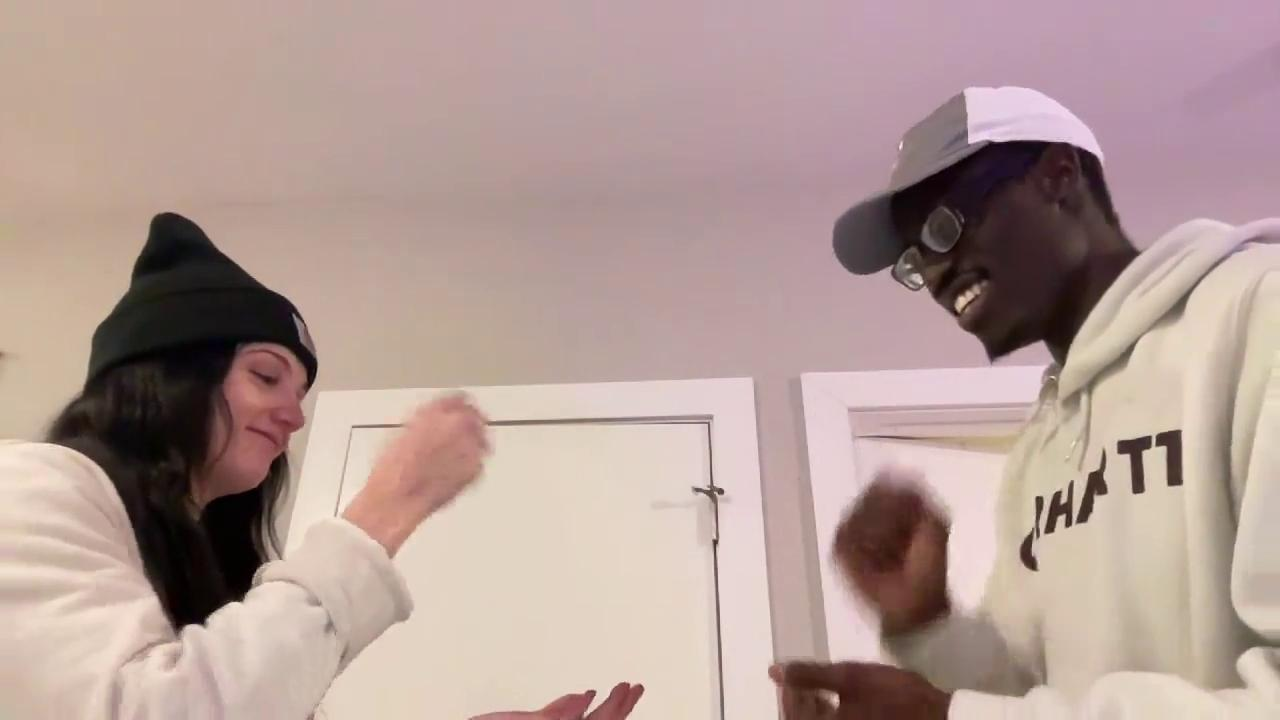Rock: (825, 463, 949, 612), (367, 392, 490, 513)
